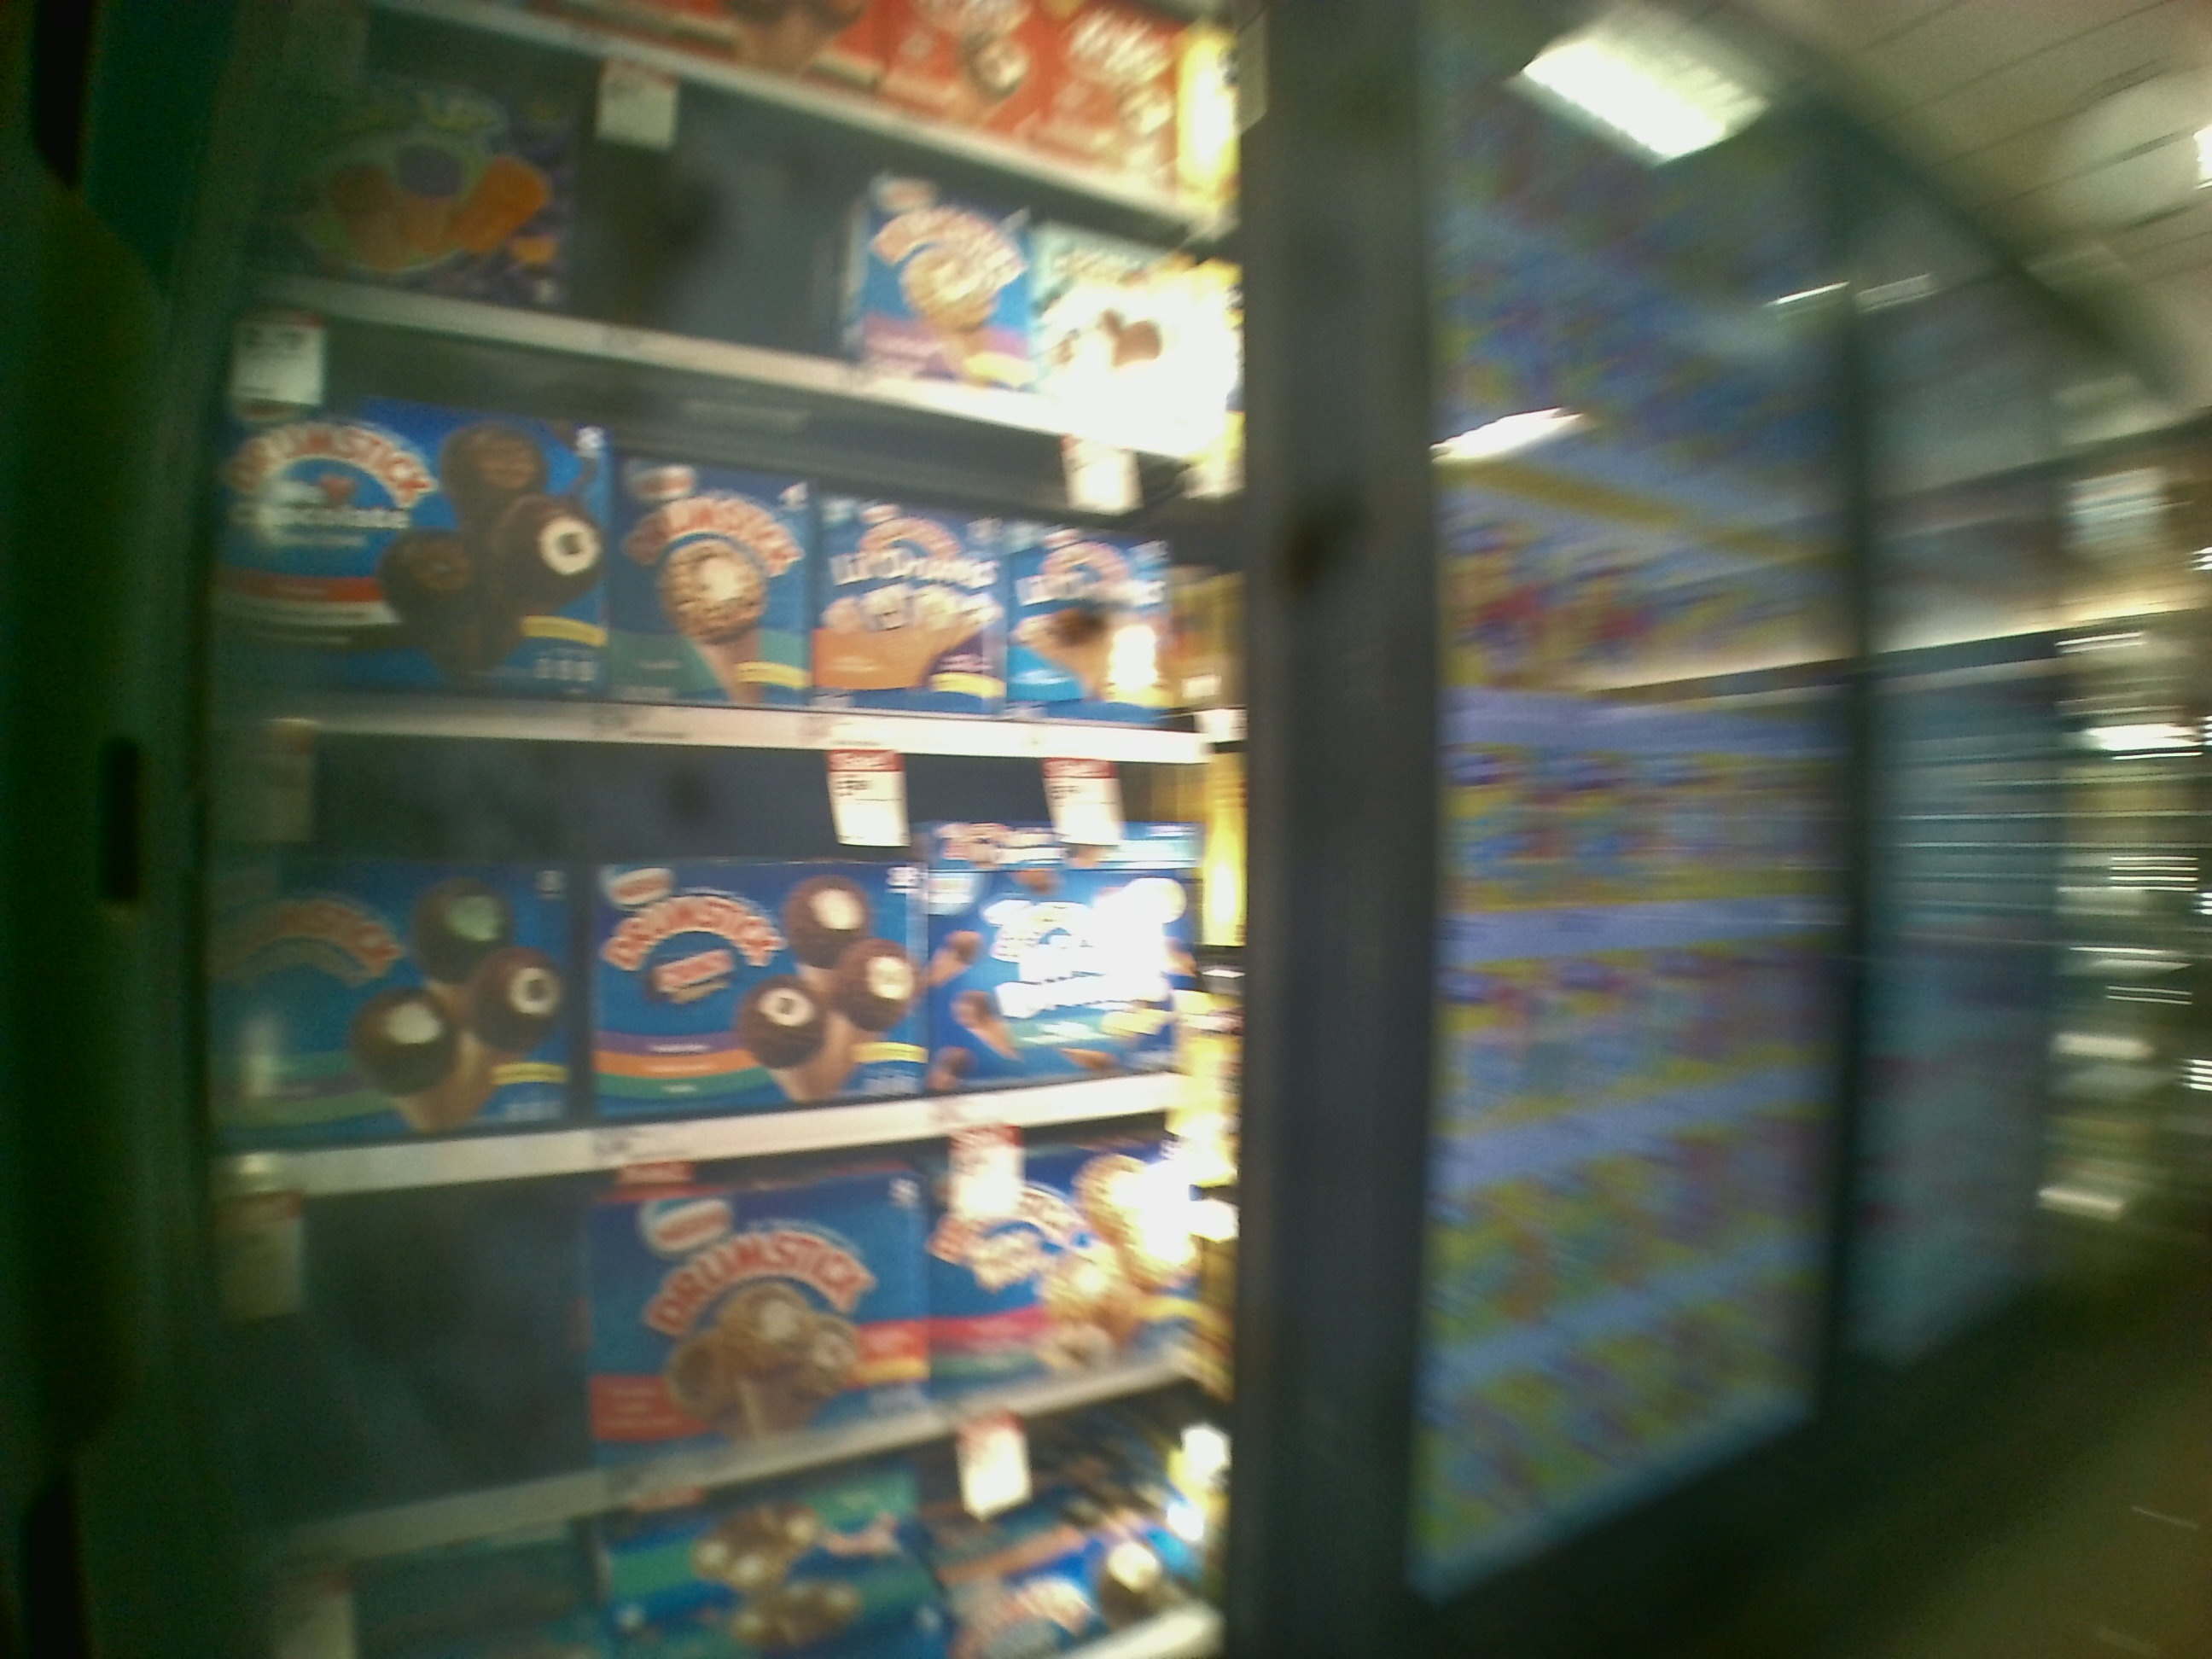shelf: (195, 727, 1228, 1190), (209, 305, 1223, 758)
